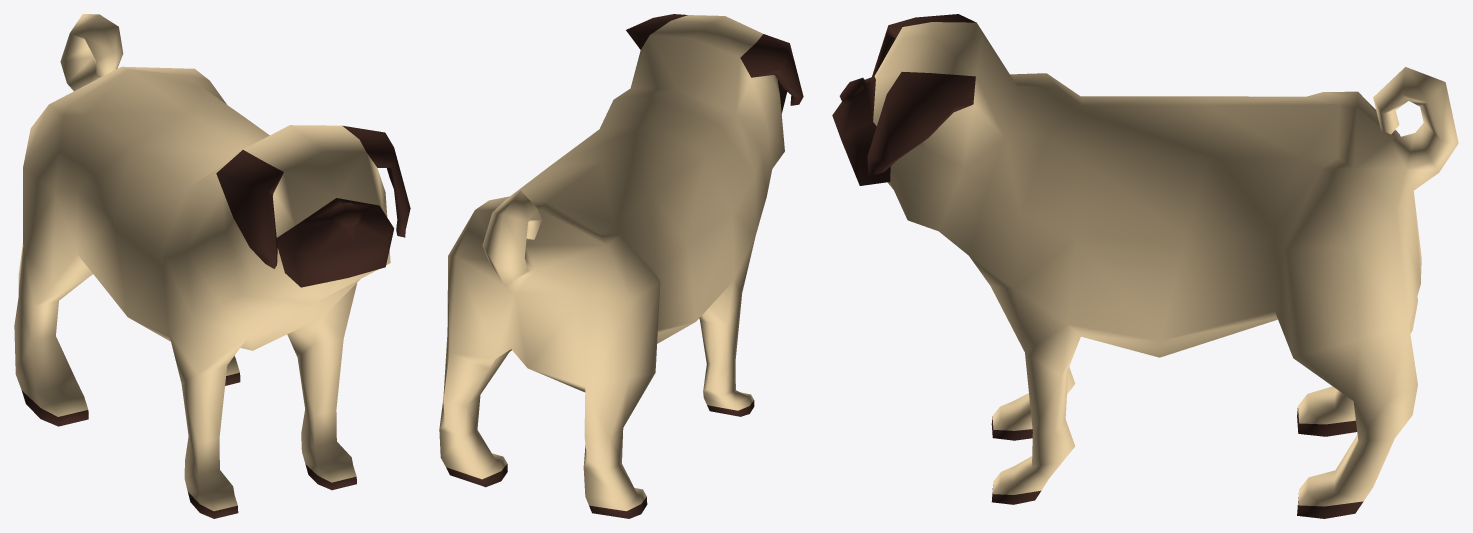
File: Pug.gltf
The picture shows the model from 3 angles, left to right: view 1: azimuth 30°, elevation 25°; view 2: azimuth 150°, elevation 25°; view 3: azimuth 270°, elevation 25°; orthographic projection. The views are drawn at different scales.
Parts seen in each view (by area): view 1: Node1; view 2: Node1; view 3: Node1.
Part boxes in pixels (x1,y1,x2,y2): Node1: (14,14,410,518); Node1: (439,14,803,518); Node1: (832,14,1458,518).
Bounding box in the file's own units: 1.45 × 2.65 × 3.5.
